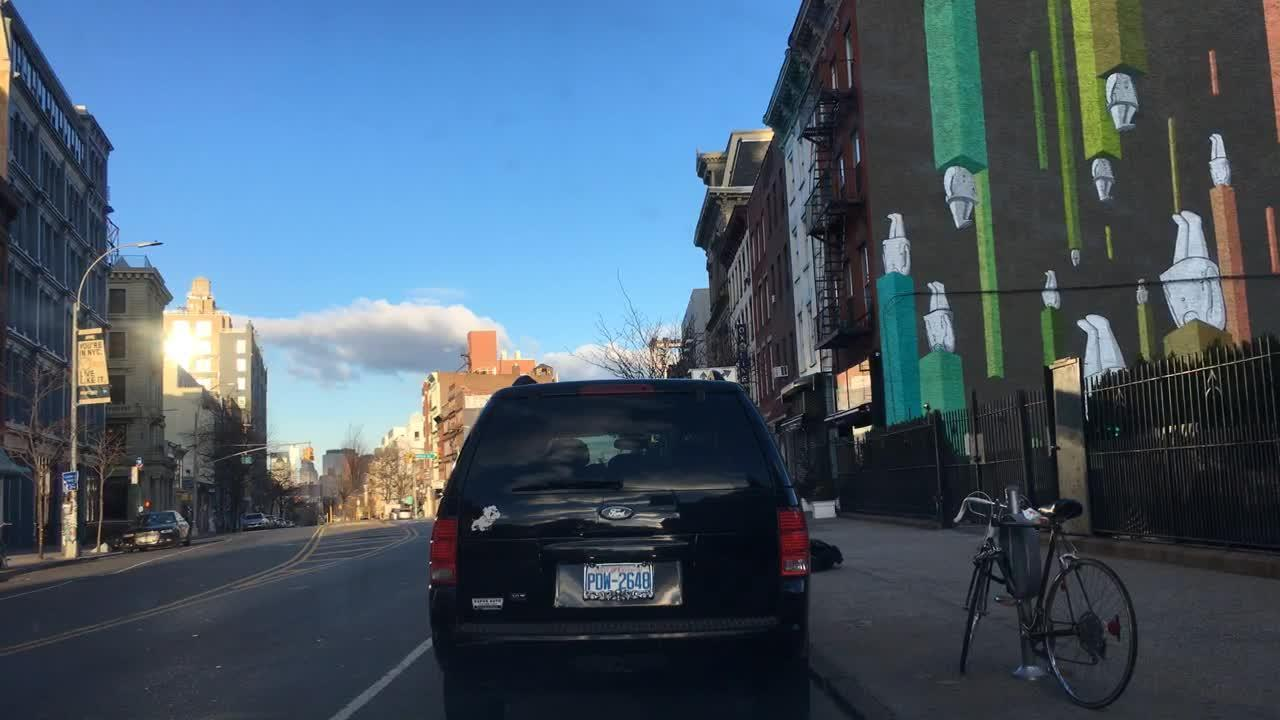ford: (602, 496, 636, 530)
